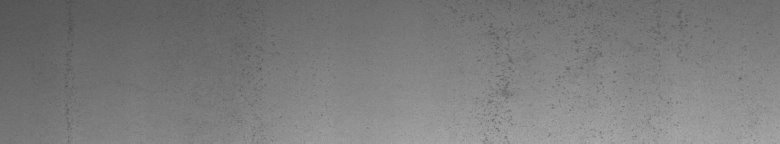ib: (450, 4, 603, 135)
